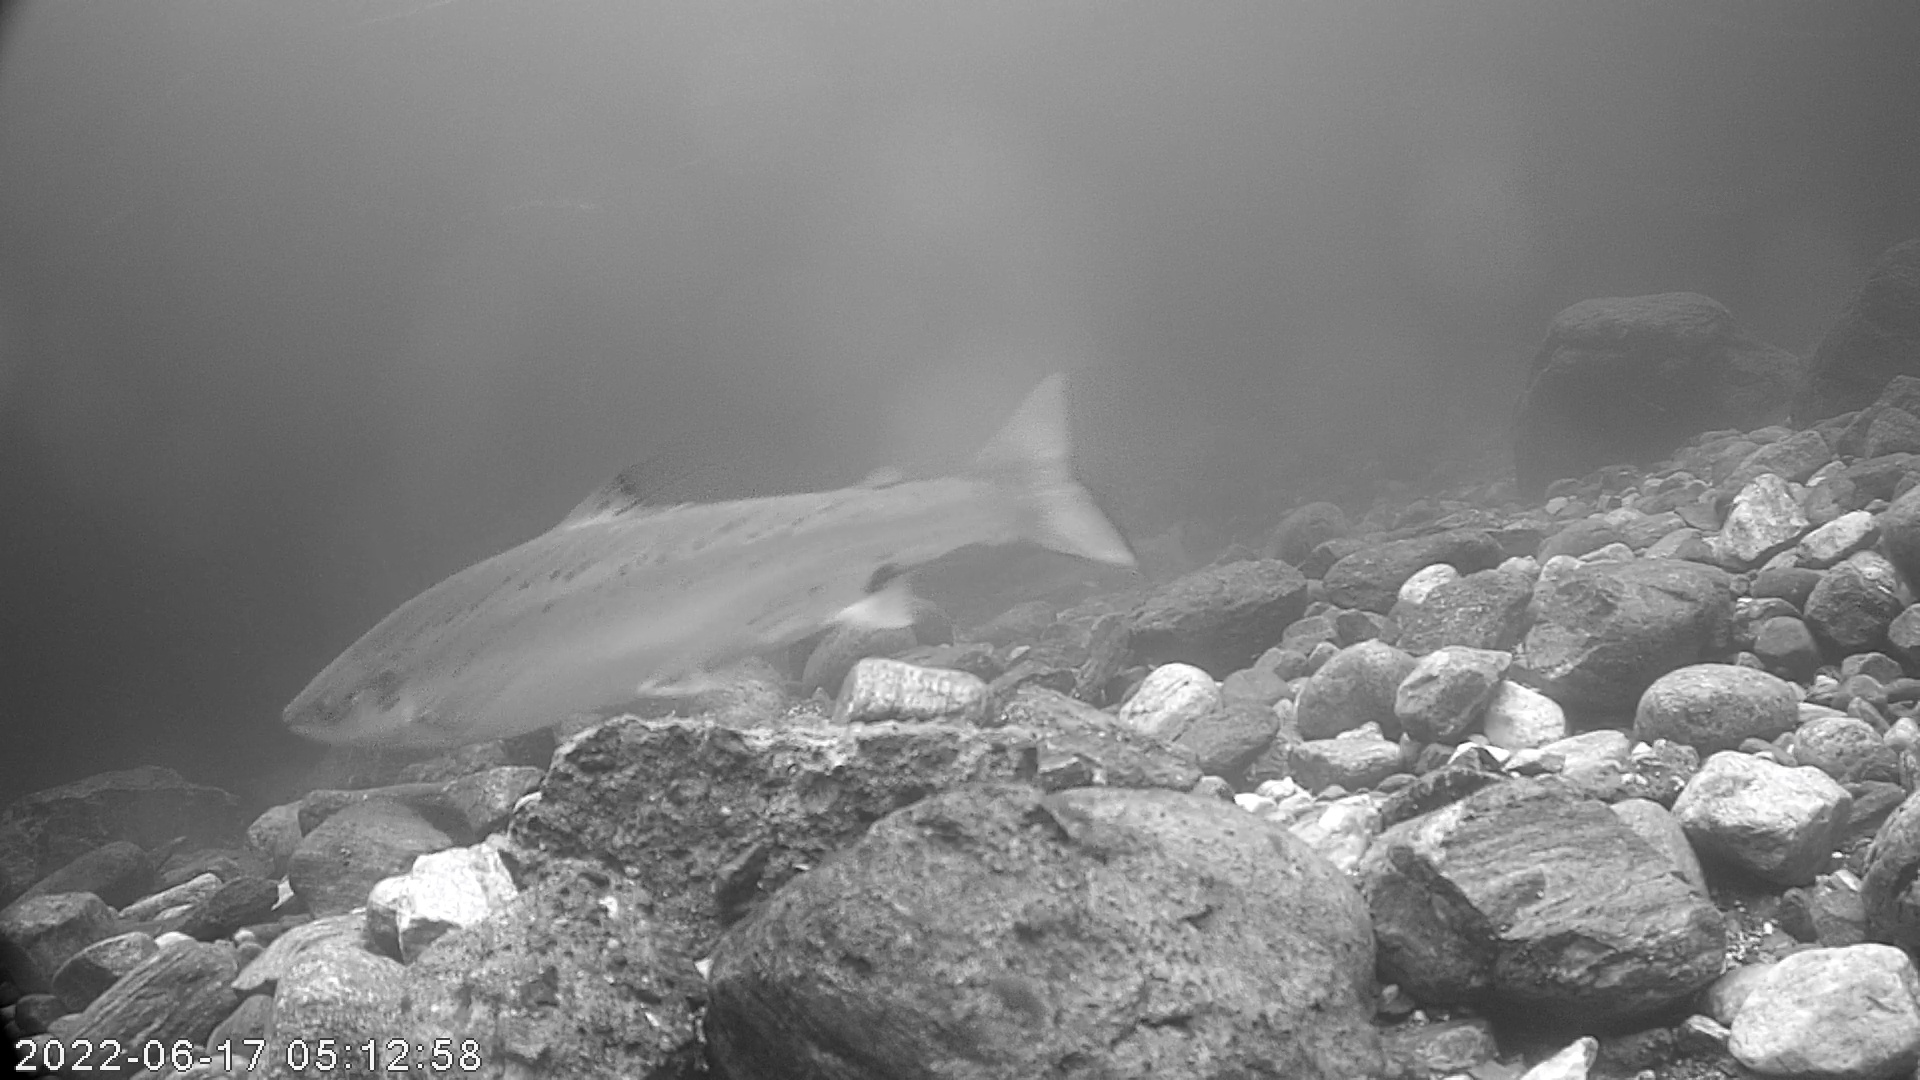salmon: (280, 367, 1141, 756)
